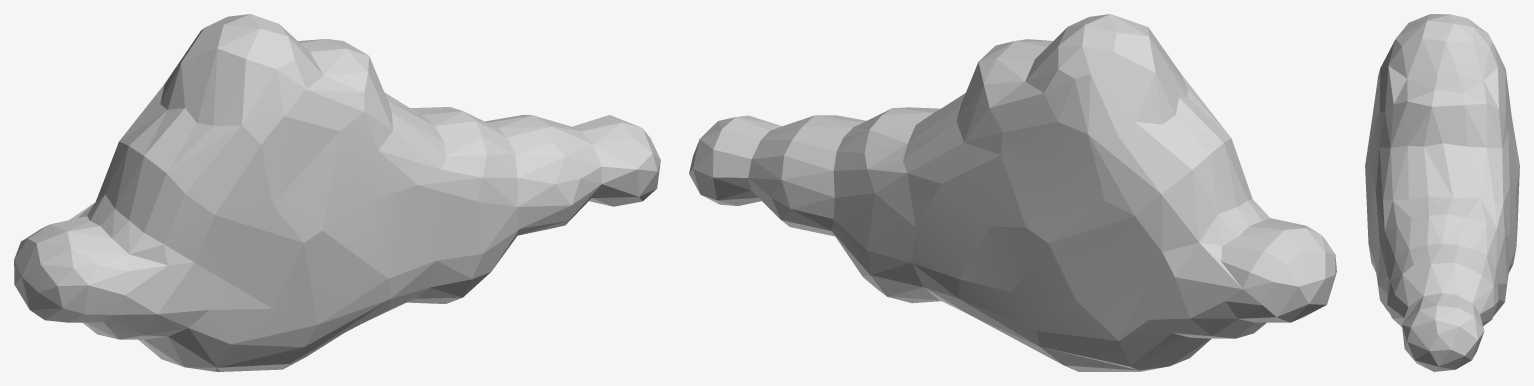
The model's file is big_cloud_3.fbx.
3 views of the same model, side by side, from view 1: azimuth 30°, elevation 25°; view 2: azimuth 150°, elevation 25°; view 3: azimuth 270°, elevation 25° (orthographic). The views are drawn at different scales.
Visible parts, largest first — view 1: cloud_43; view 2: cloud_43; view 3: cloud_43.
Part boxes in pixels (box(x1,y1,x2,y2)): cloud_43: box(14, 14, 660, 371); cloud_43: box(689, 14, 1336, 371); cloud_43: box(1365, 14, 1519, 371).
Bounding box in the file's own units: 861 × 451 × 237.
